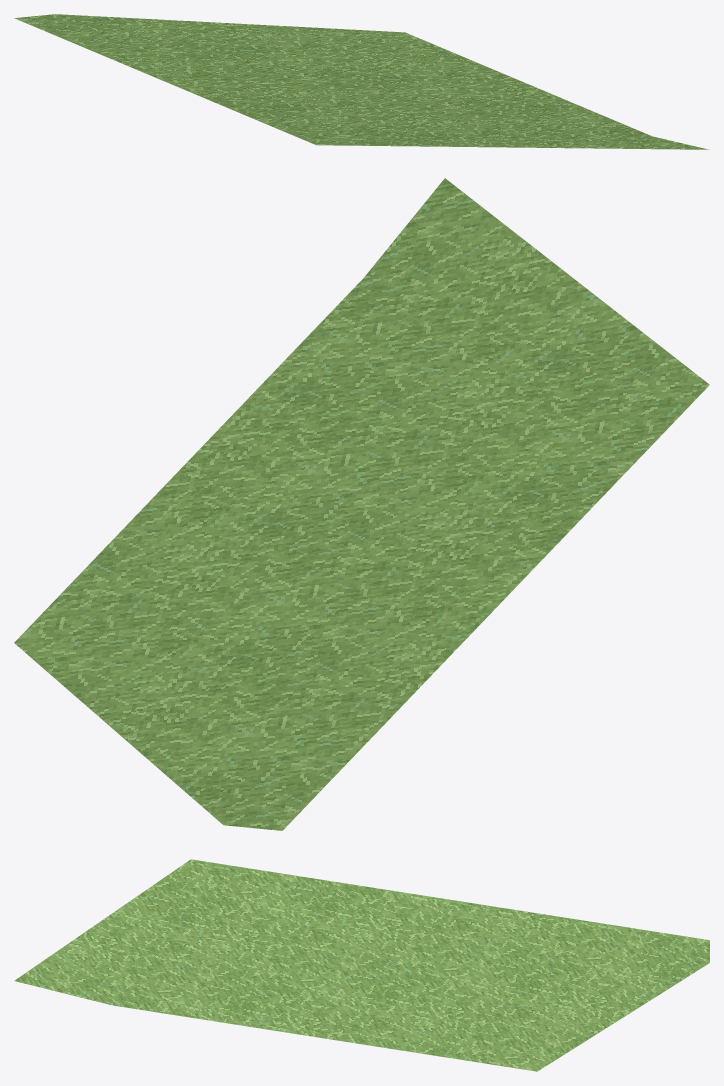
The model's file is kd_stage_135ebf_3_6_bounded.glb.
3 views of the same model, one above another, from view 1: azimuth 30°, elevation 25°; view 2: azimuth 150°, elevation 25°; view 3: azimuth 270°, elevation 25° (orthographic). The views are drawn at different scales.
Parts seen in each view (by area): view 1: kd_stage_135ebf_3_6_bounded; view 2: kd_stage_135ebf_3_6_bounded; view 3: kd_stage_135ebf_3_6_bounded.
Boxes of the visible parts, box(x1,y1,x2,y2) form: kd_stage_135ebf_3_6_bounded: box(14, 14, 709, 149); kd_stage_135ebf_3_6_bounded: box(14, 178, 709, 830); kd_stage_135ebf_3_6_bounded: box(14, 859, 709, 1071).
Size of the model in its own units: 1.68 by 0.5825 by 4.05.
Materials: 1 (1 with a texture image).
